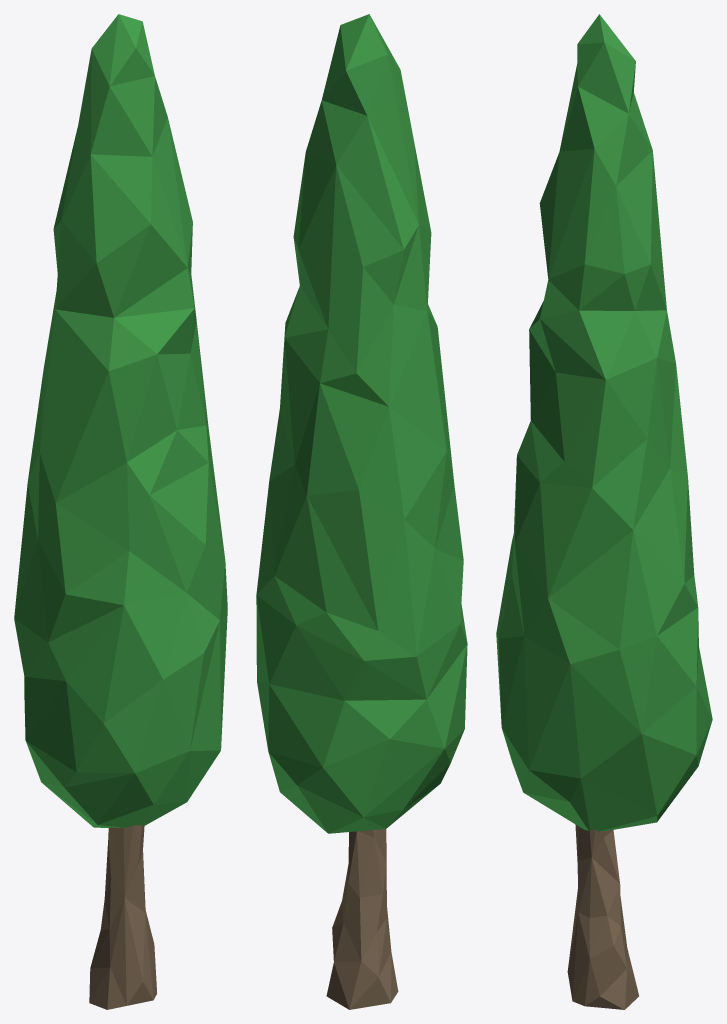
Rendered from pine_k.FBX.
3 views of the same model, side by side, from view 1: azimuth 30°, elevation 25°; view 2: azimuth 150°, elevation 25°; view 3: azimuth 270°, elevation 25° (orthographic).
Parts seen in each view (by area): view 1: pine_k; view 2: pine_k; view 3: pine_k.
Boxes of the visible parts, x1,y1,x2,y2 form: pine_k: [14, 14, 227, 1009]; pine_k: [256, 14, 467, 1009]; pine_k: [496, 14, 712, 1009].
Bounding box in the file's own units: 3.23 × 16.93 × 3.38.
